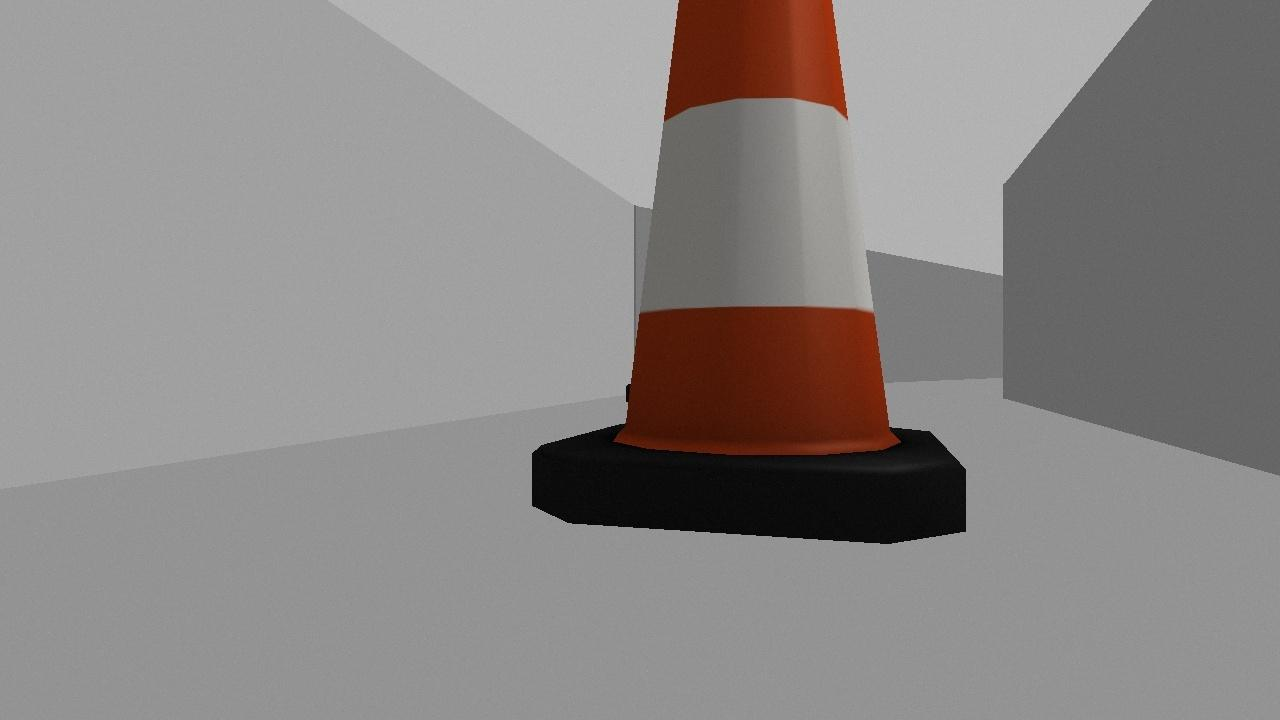cone_barrel: (527, 0, 970, 540)
